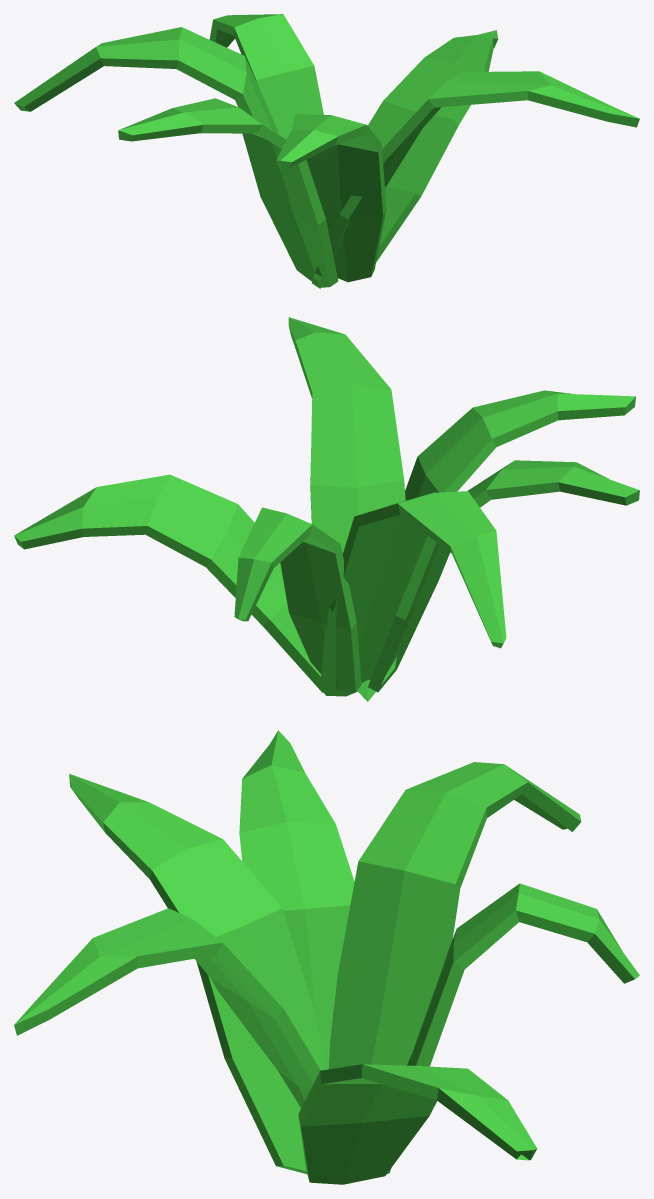
File: GrassPoll3.fbx
The picture shows the model from 3 angles, top to bottom: view 1: azimuth 30°, elevation 25°; view 2: azimuth 150°, elevation 25°; view 3: azimuth 270°, elevation 25°; orthographic projection. The views are drawn at different scales.
Parts seen in each view (by area): view 1: GrassPoll.002; view 2: GrassPoll.002; view 3: GrassPoll.002.
Boxes of the visible parts, <box> form: GrassPoll.002: <box>14,14,639,288</box>; GrassPoll.002: <box>14,317,639,701</box>; GrassPoll.002: <box>14,730,639,1184</box>.
Size of the model in its own units: 270 by 133 by 234.
